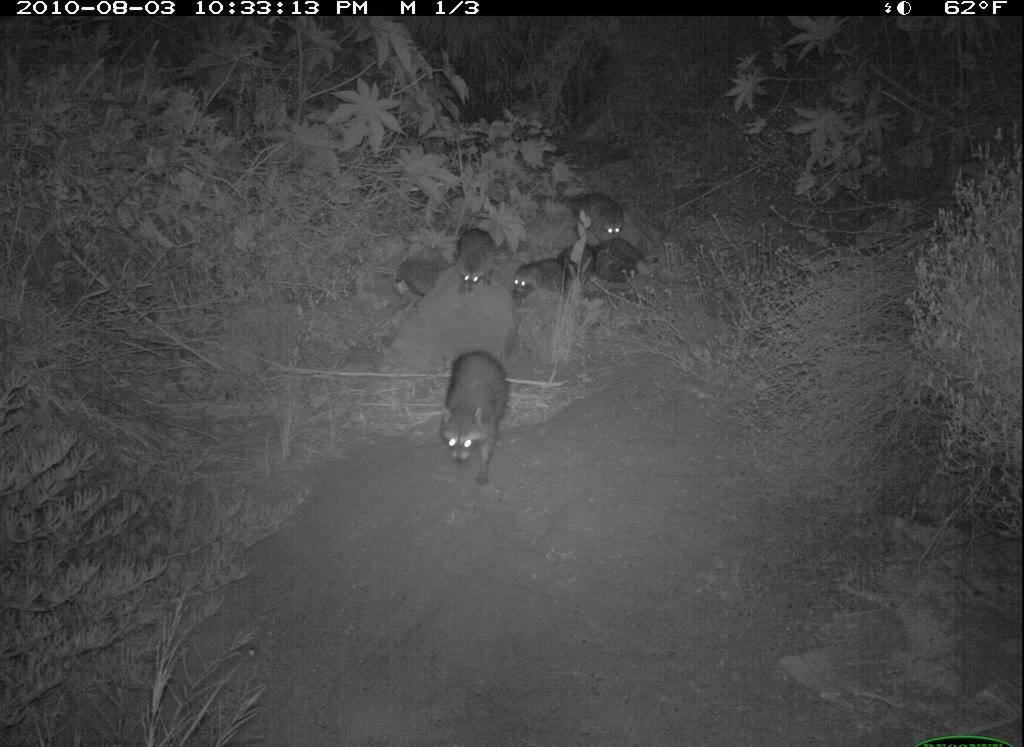raccoon: (437, 345, 515, 486), (559, 178, 639, 239), (452, 216, 501, 300), (509, 250, 579, 303), (589, 241, 650, 295)
